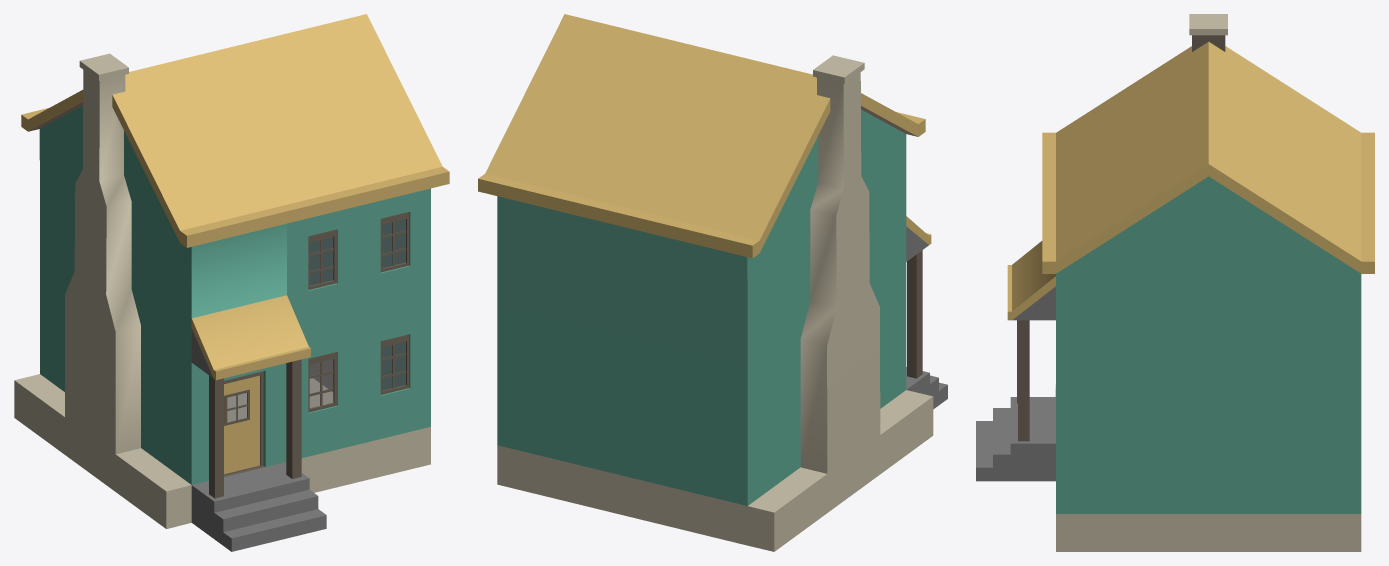
Rendered from residential2.fbx.
3 renders of one model, left to right at view 1: azimuth 30°, elevation 25°; view 2: azimuth 150°, elevation 25°; view 3: azimuth 270°, elevation 25°, orthographic. The views are drawn at different scales.
Parts seen in each view (by area): view 1: Cube; view 2: Cube; view 3: Cube.
Boxes of the visible parts, x1,y1,x2,y2 form: Cube: (14,14,449,551); Cube: (478,14,947,551); Cube: (976,14,1374,551).
Bounding box in the file's own units: 1186 × 1657 × 1470.
